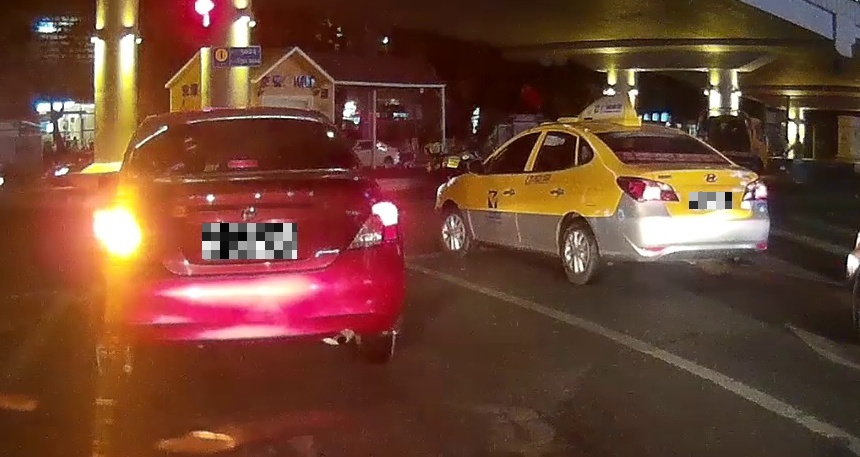L_light: (614, 174, 680, 203), (105, 213, 146, 258)
R_light: (348, 202, 397, 249), (742, 177, 768, 201)
T_light: (226, 159, 259, 169), (644, 134, 668, 138)
night-left: (101, 106, 403, 375)
night-no: (584, 118, 770, 287)
plate_1: (202, 223, 297, 259)
plate_2: (689, 192, 732, 209)
